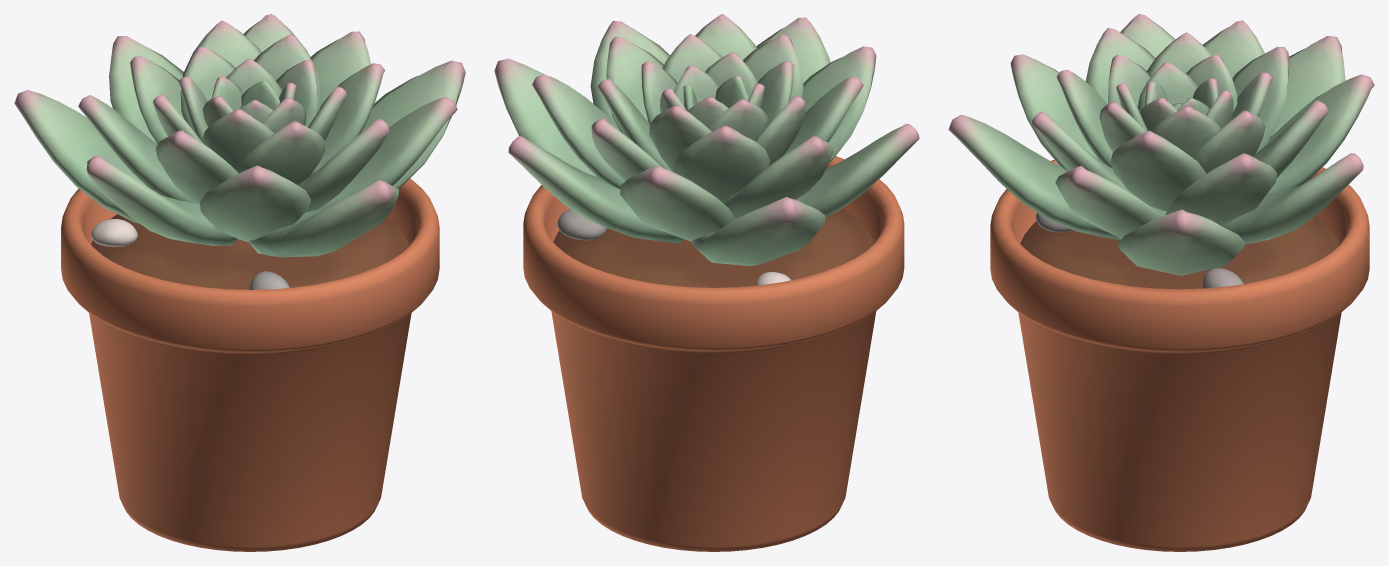
File: succulent.glb
3 renders of one model, left to right at view 1: azimuth 30°, elevation 25°; view 2: azimuth 150°, elevation 25°; view 3: azimuth 270°, elevation 25°, orthographic.
Visible parts, largest first — view 1: succulent_body; view 2: succulent_body; view 3: succulent_body.
Boxes of the visible parts, x1=… form: succulent_body: x1=14, y1=14, x2=465, y2=551; succulent_body: x1=494, y1=14, x2=919, y2=551; succulent_body: x1=948, y1=14, x2=1374, y2=551.
Bounding box in the file's own units: 0.1085 × 0.11 × 0.1.
1 material, 1 textured.
